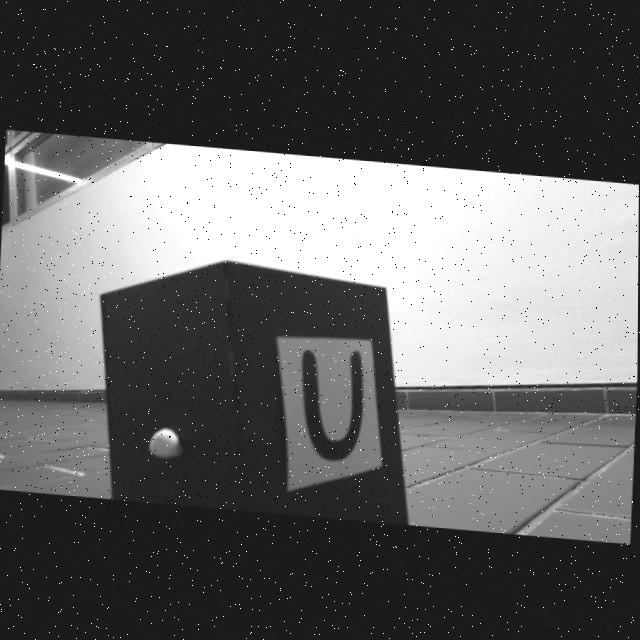U: (304, 347, 365, 455)
